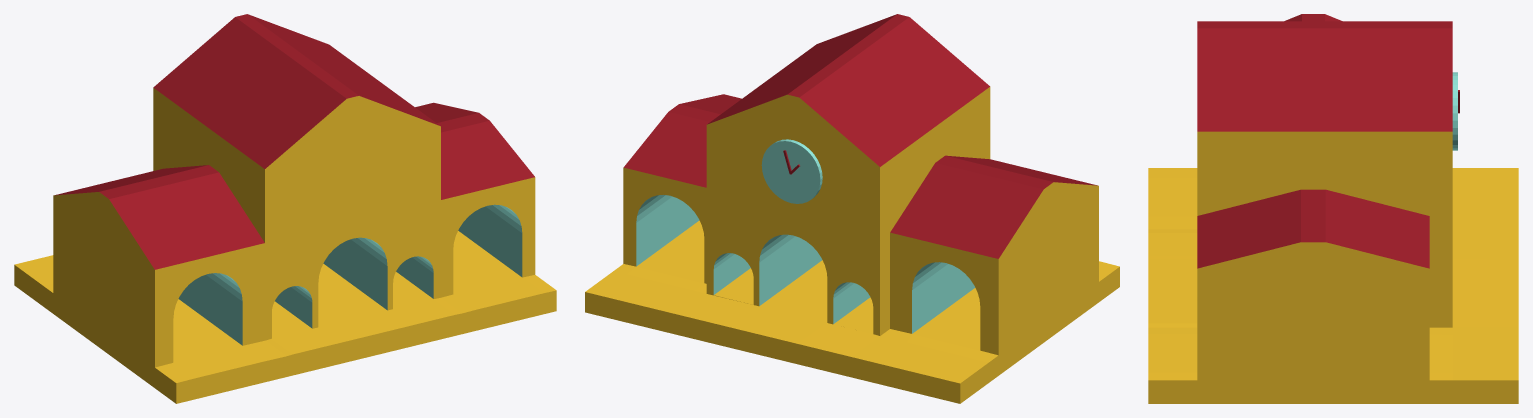
Rendered from gamjam2025_gare.glb.
3 views of the same model, side by side, from view 1: azimuth 30°, elevation 25°; view 2: azimuth 150°, elevation 25°; view 3: azimuth 270°, elevation 25° (orthographic). The views are drawn at different scales.
Visible parts, largest first — view 1: gare; view 2: gare; view 3: gare.
Boxes of the visible parts, <box> form: gare: <box>14,14,556,403</box>; gare: <box>585,14,1119,403</box>; gare: <box>1148,14,1518,403</box>.
Bounding box in the file's own units: 213 × 130 × 157.
